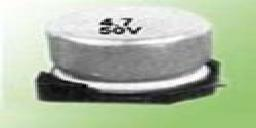Electrolytic-capacitor: (31, 4, 227, 108)
